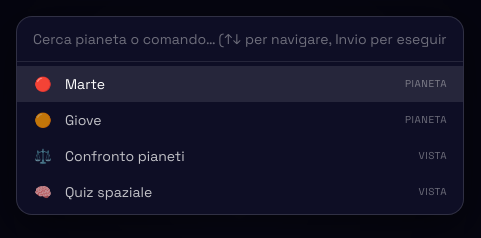
Test: CommandPalette › mostra messaggio "Nessun risultato" per query senza match
Replace the text in the search field named "Cerca comando" with "zzz" at point(240, 40), box [17,17,463,62]
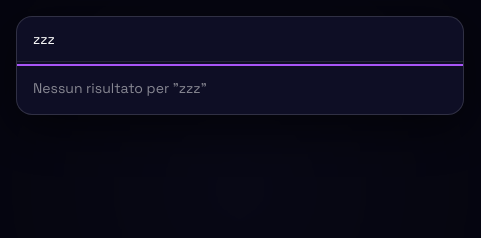
Now the list item "Nessun risultato per \"zzz\"" is shown, box [33,79,207,97]
